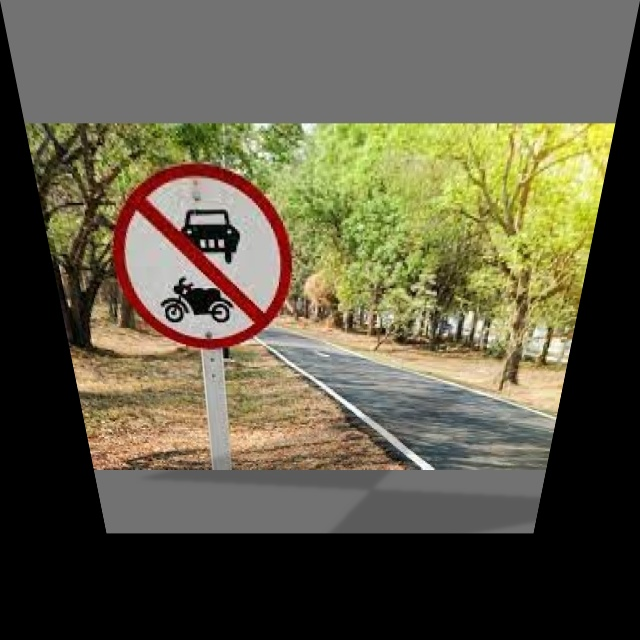All_Motor_Vehicles_Prohibited: (103, 164, 290, 344)
